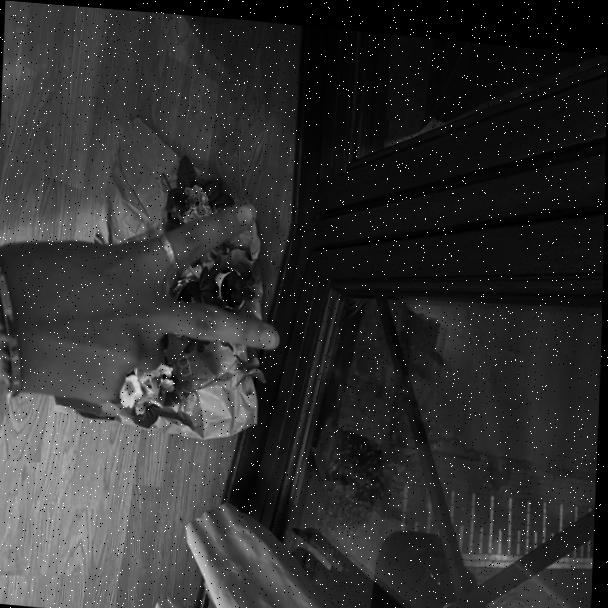two: (0, 170, 290, 454)
